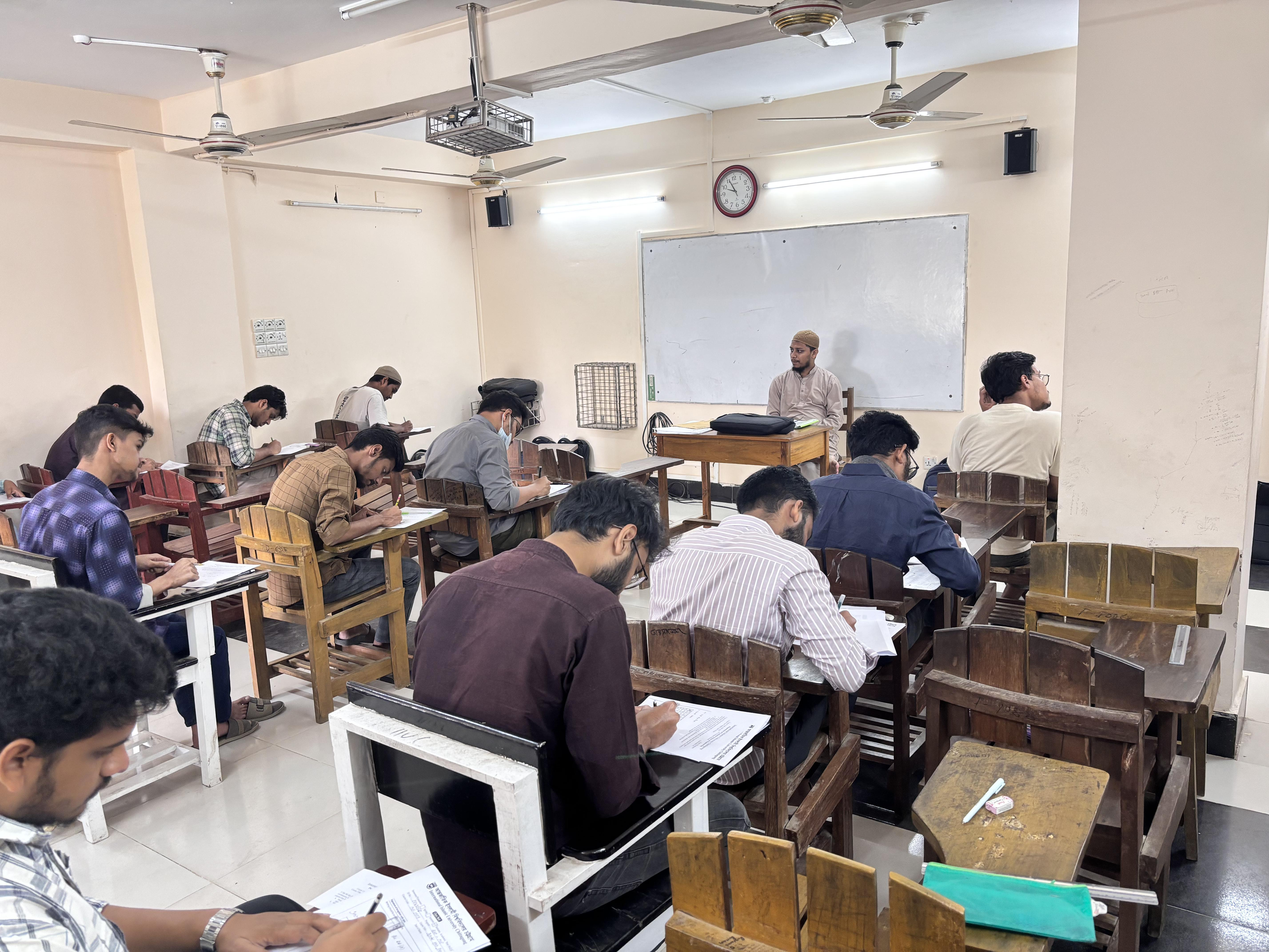invigilator: (713, 318, 849, 453)
no_cheating: (0, 569, 465, 952), (398, 485, 744, 882), (653, 454, 891, 743), (33, 396, 243, 635), (806, 398, 973, 613), (255, 425, 440, 588), (435, 383, 582, 533), (202, 365, 323, 480), (327, 336, 427, 446)
suspicious_moving: (953, 332, 1083, 494)
